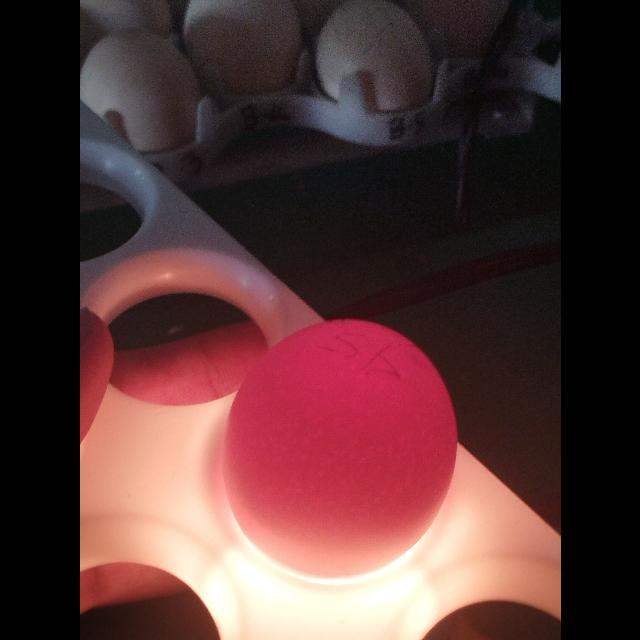Infertile: (220, 316, 460, 582)
